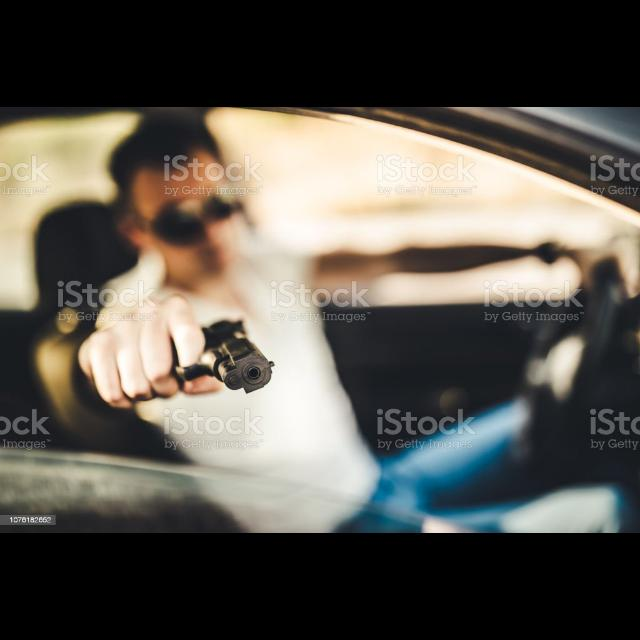handgun: (171, 316, 277, 396)
